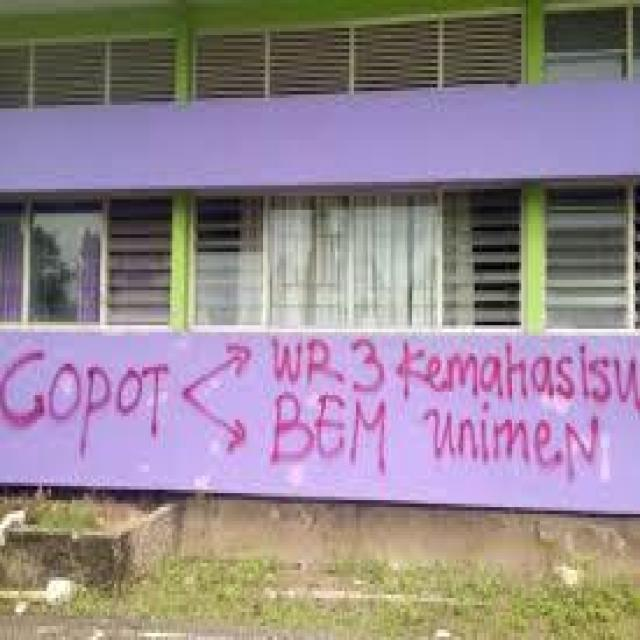nonspitting: (0, 340, 640, 482)
